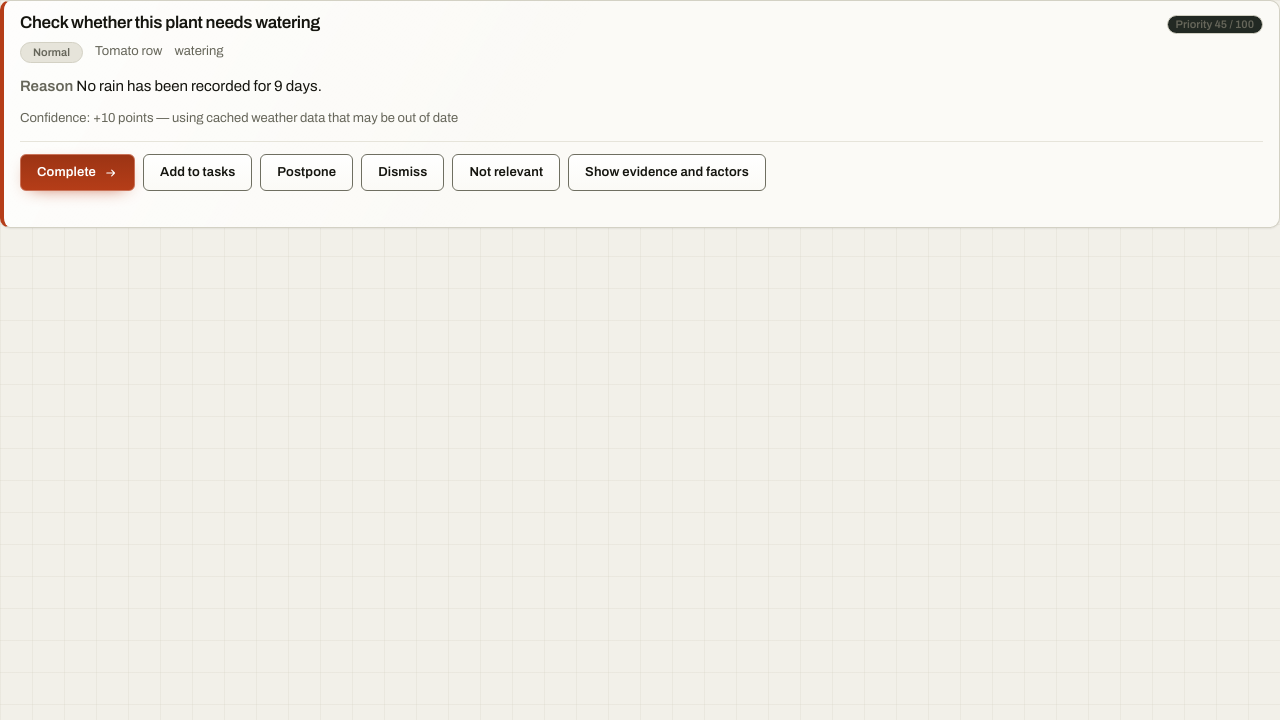
Test: TodayCard — FR-24 field list › expands evidence and factors on demand, resolving only the carried display name
Click the button "Show evidence and factors" at (667, 173), box [568,154,766,191]
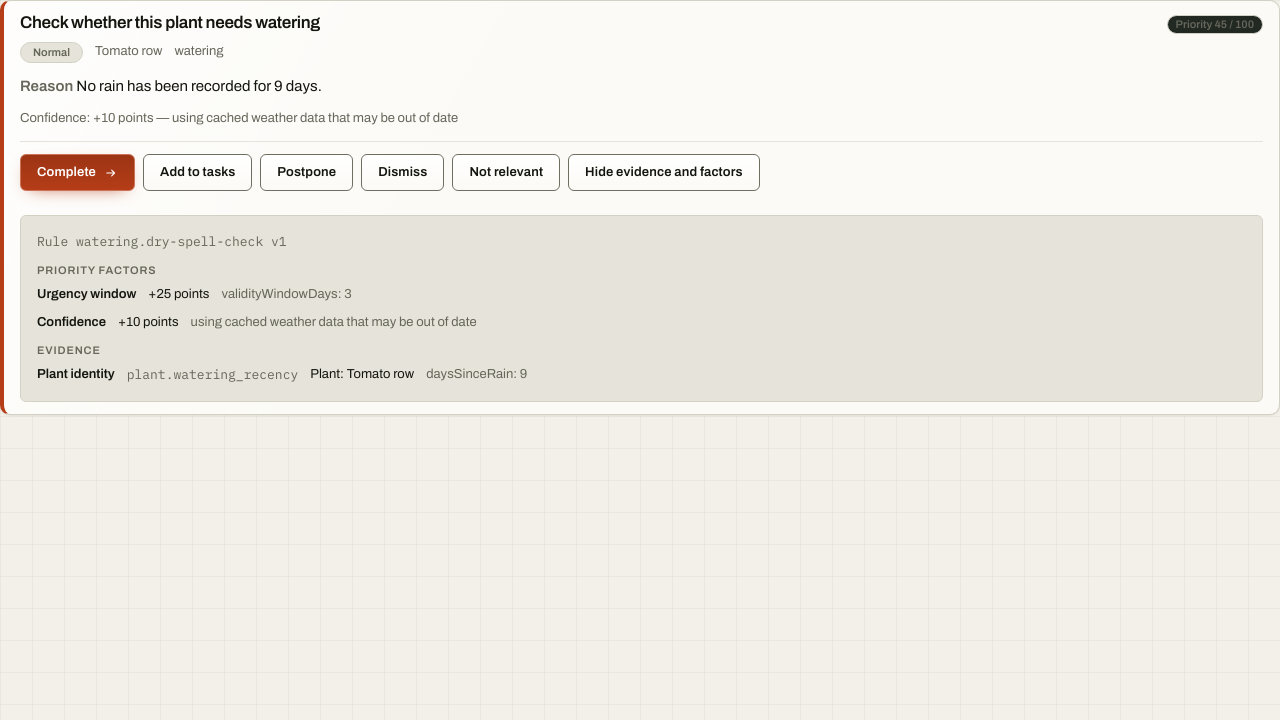
Result: the text "Rule watering.dry-spell-check v1" is shown at [37,233,287,250]
Result: the text "Urgency window" is shown at [37,285,136,305]
Result: the text "+25 points" is shown at [148,285,210,305]
